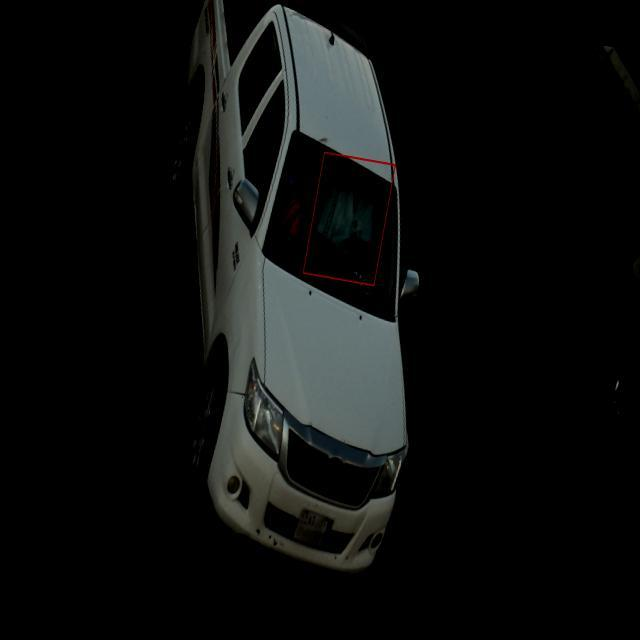windshield: (252, 122, 412, 323)
